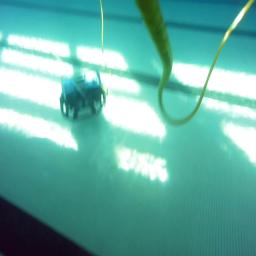back: (59, 68, 107, 119)
